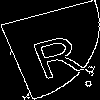R: (24, 25, 86, 81)
